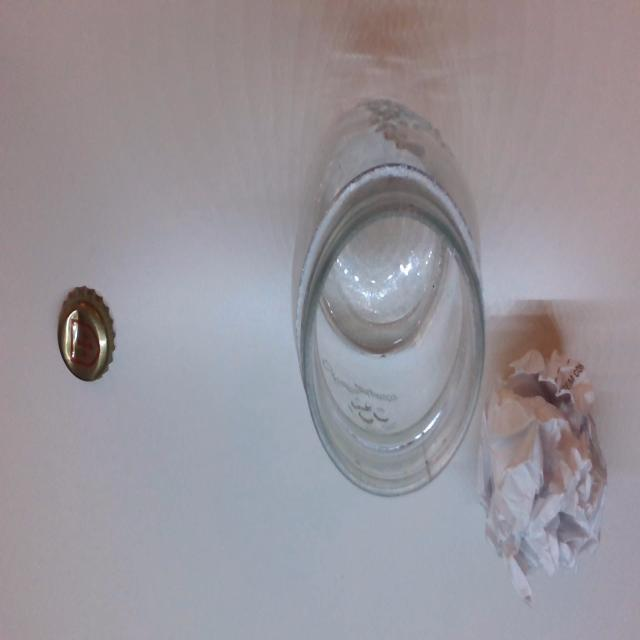Glass: (293, 99, 485, 509)
Paper: (487, 345, 604, 603)
